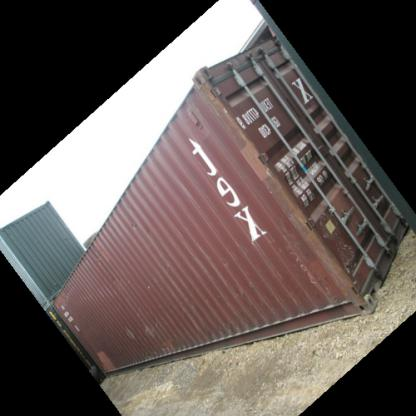Damage: (276, 190, 368, 307), (197, 76, 254, 150), (222, 278, 262, 306), (114, 317, 167, 338), (102, 264, 132, 291), (120, 221, 157, 238)
